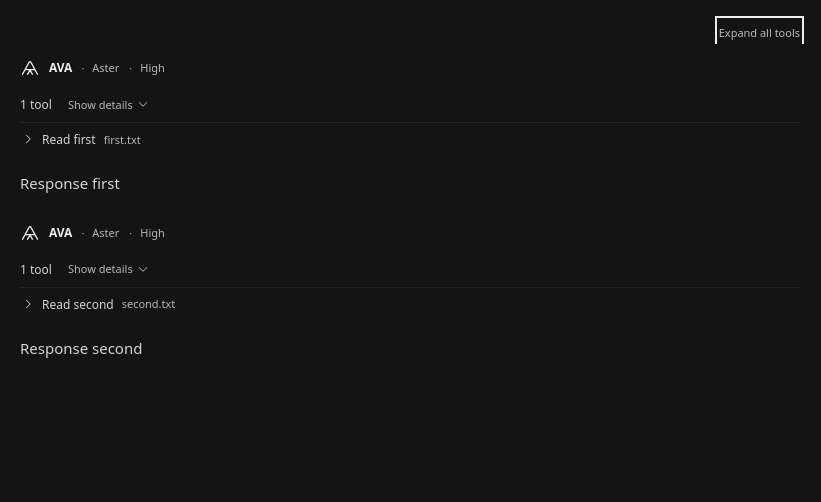
Test: conversation-wide tool expansion › opens every assistant group with one real control, keeps local overrides and collapses everything without mutating supplied records
expect the number of buttons "1 tool Show details" is 2: met, box [20,90,152,118]; [20,255,152,283]
expect the text "Output for first" is not shown: met
Press Enter
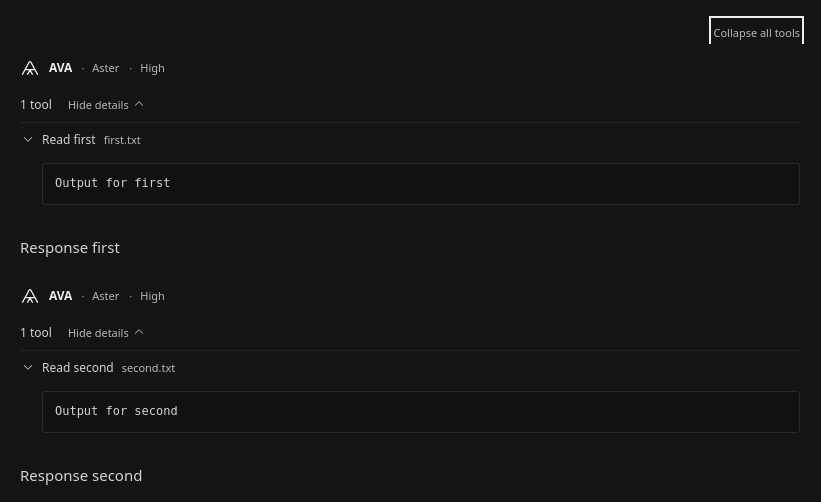
expect the text "Output for first" is shown: met, box [55,176,170,190]
expect the text "Output for second" is shown: met, box [55,404,178,418]
expect the 1st button "1 tool Hide details" is expanded: met
Click the 1st button "1 tool Hide details". click: point(84, 104)
box: [20,90,148,118]
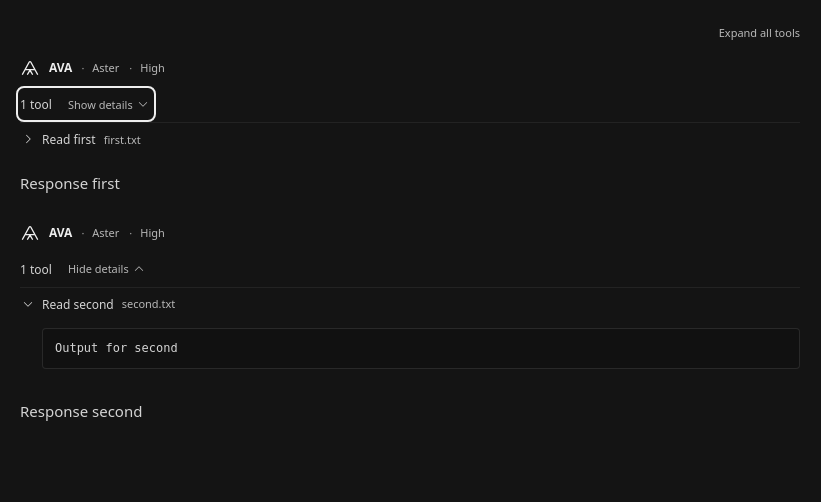
expect the text "Output for second" is shown: met, box [55,341,178,355]
expect the text "Output for first" is gone: met
Click the button "Expand all tools". click: point(759, 32)
box: [719,20,800,44]
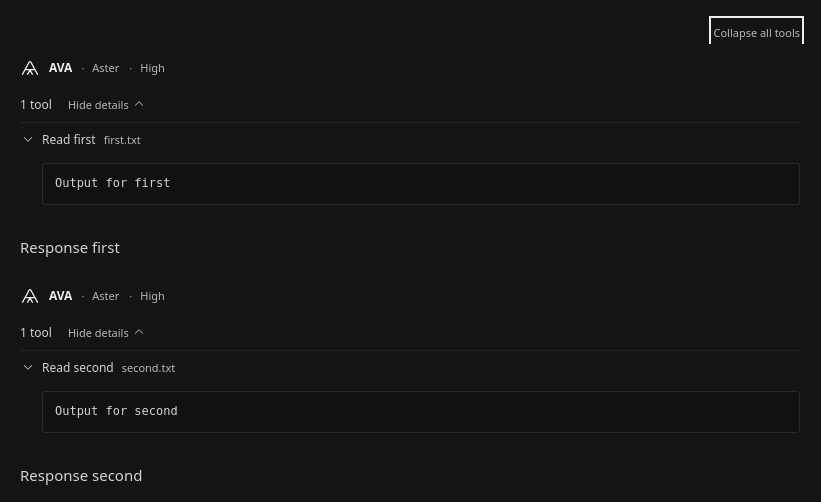
expect the text "Output for first" is shown: met, box [55,176,170,190]
Type keys " "
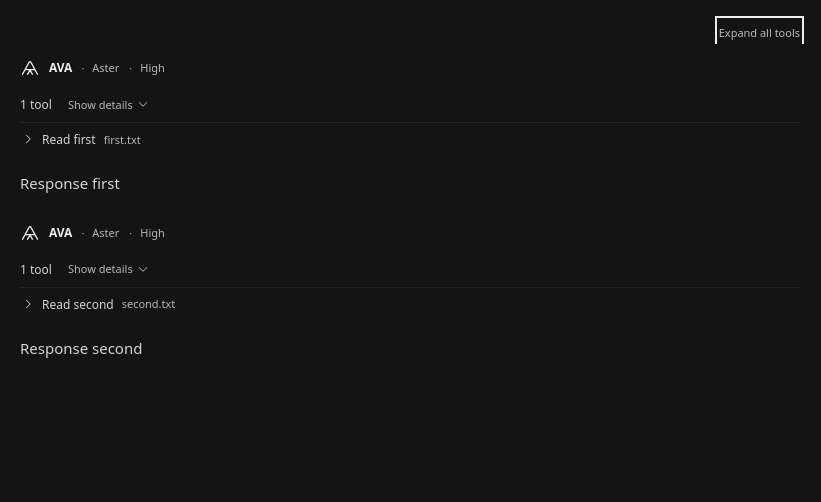
expect the text "Output for first" is gone: met
expect the text "Output for second" is gone: met
expect the number of elements named "Model: Aster" is 2: met, box [81,59,119,78]; [81,224,119,242]
